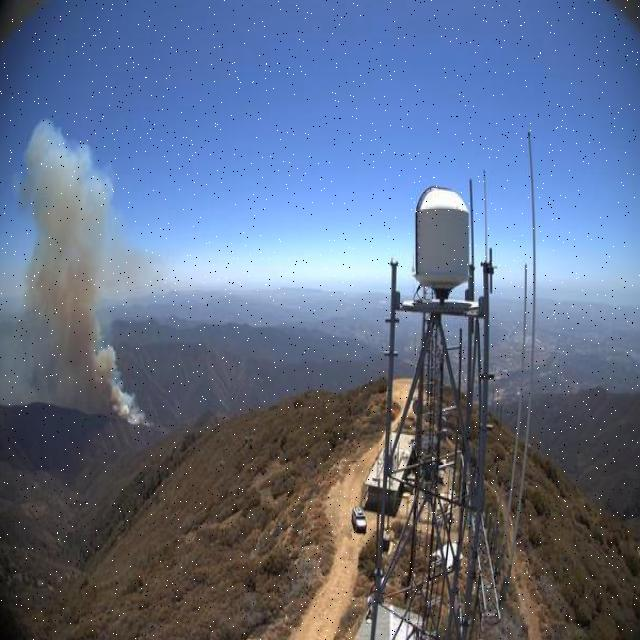smoke: (12, 112, 147, 431)
